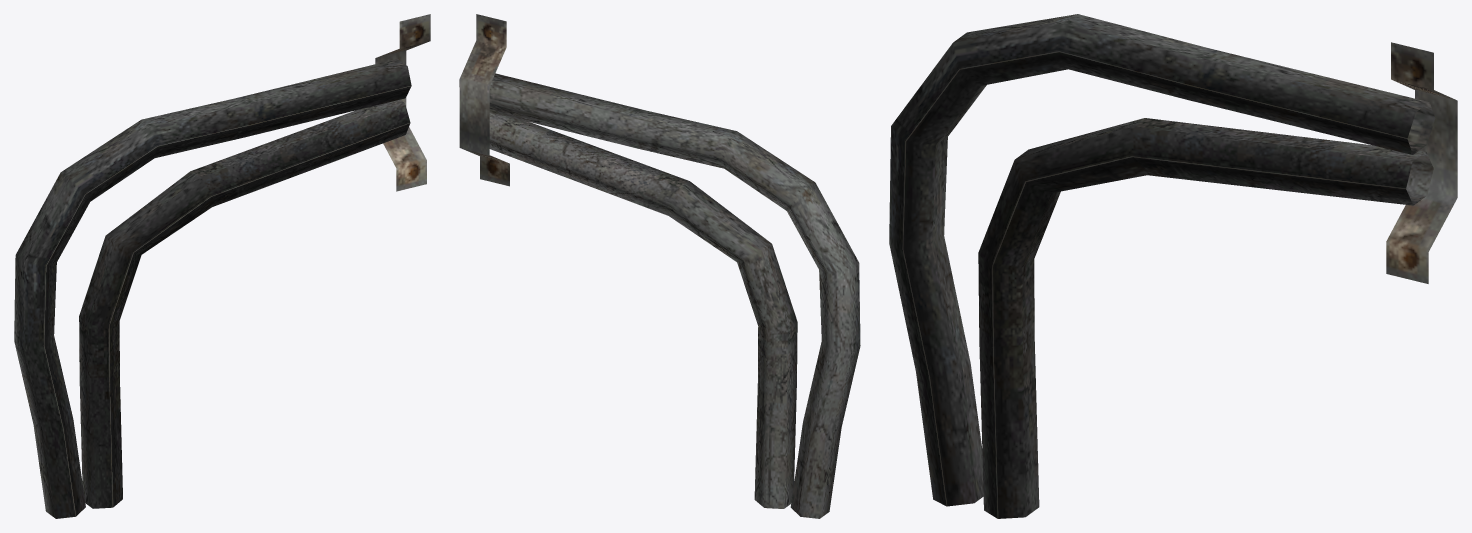
The model's file is Wiresturn.fbx.
3 renders of one model, left to right at view 1: azimuth 30°, elevation 25°; view 2: azimuth 150°, elevation 25°; view 3: azimuth 330°, elevation 25°, orthographic. The views are drawn at different scales.
Visible parts, largest first — view 1: mesh_0.643; view 2: mesh_0.643; view 3: mesh_0.643.
Part boxes in pixels (box(x1,y1,x2,y2)): mesh_0.643: box(14, 14, 430, 518); mesh_0.643: box(459, 14, 860, 518); mesh_0.643: box(889, 14, 1457, 518).
Size of the model in its own units: 0.4595 by 0.4584 by 0.0416.
